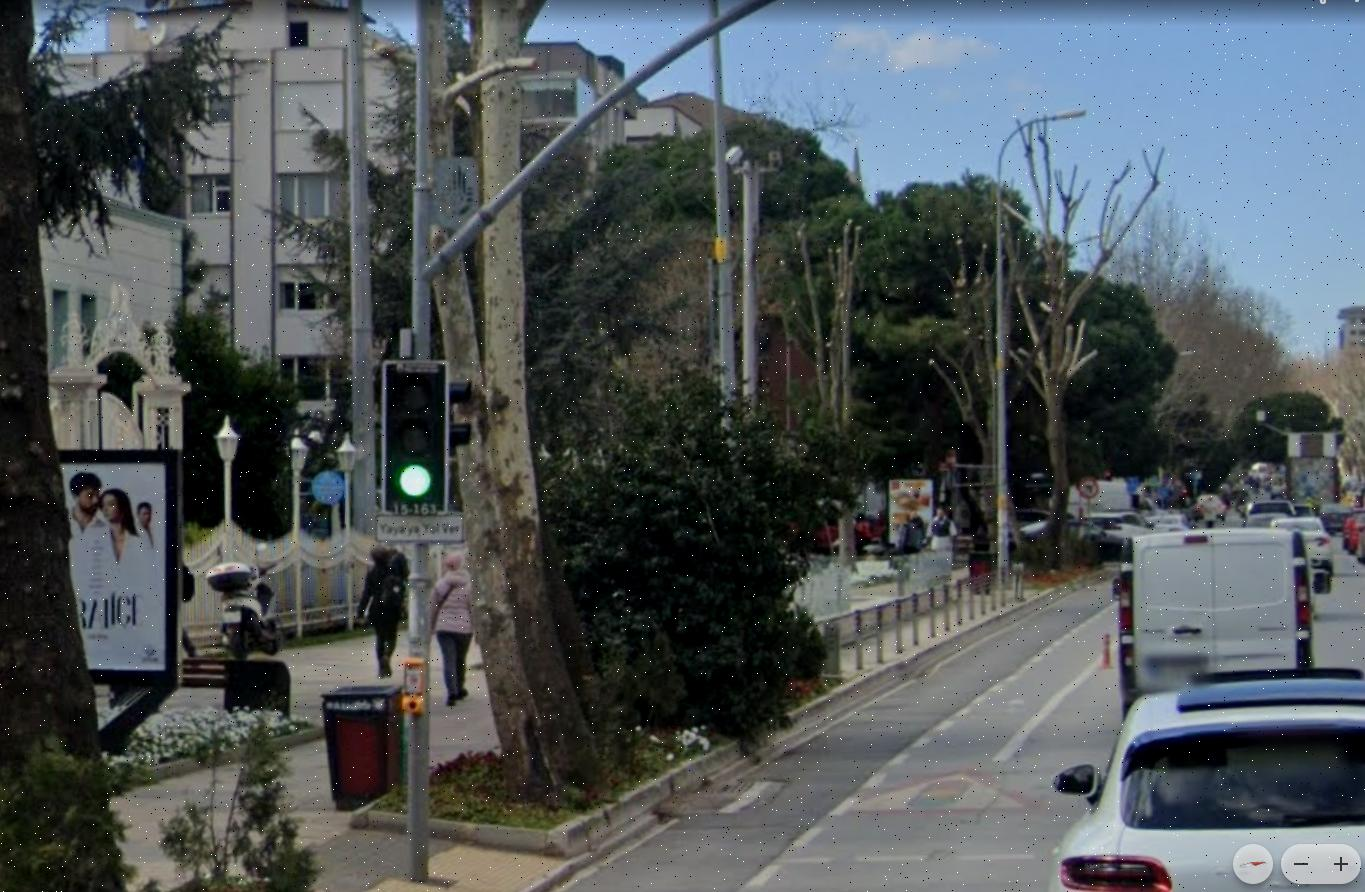greenlight: (381, 363, 451, 515)
